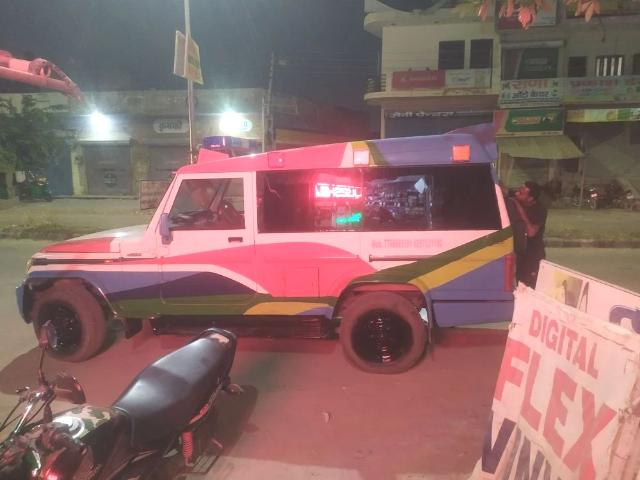ambulance: (0, 121, 607, 375)
